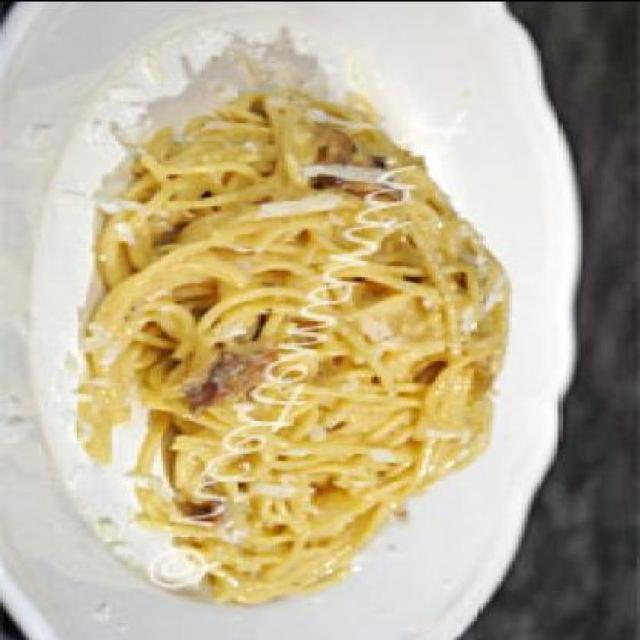Pasta: (83, 58, 519, 582)
